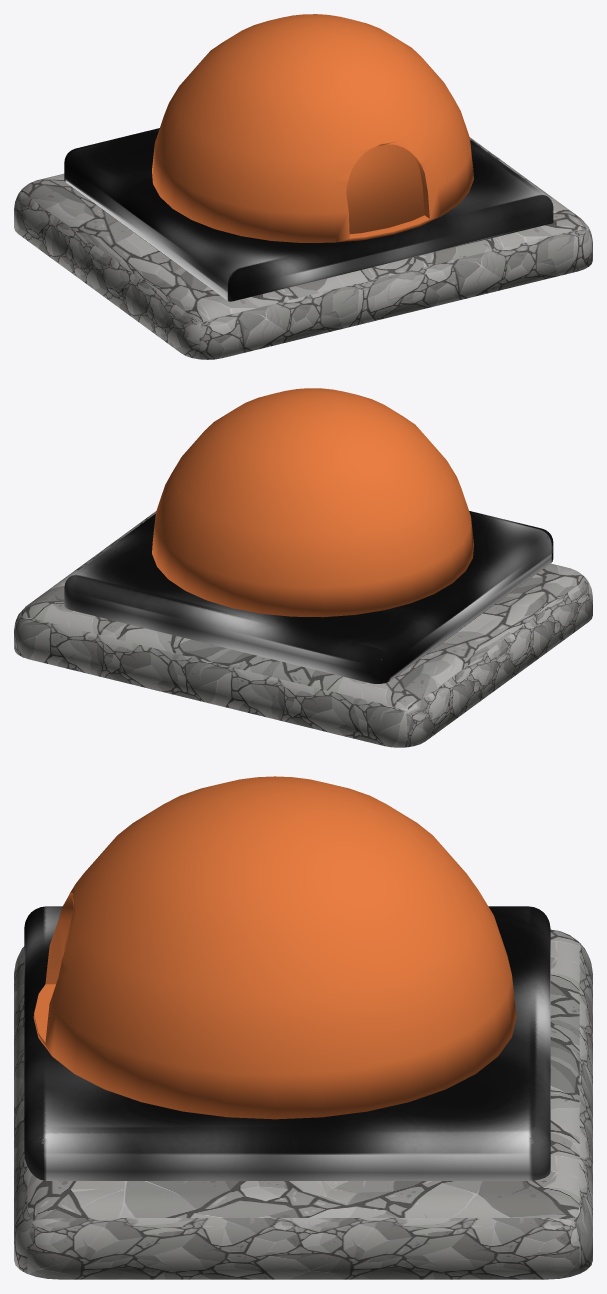
The model's file is forno.fbx.
The picture shows the model from 3 angles, top to bottom: view 1: azimuth 30°, elevation 25°; view 2: azimuth 150°, elevation 25°; view 3: azimuth 270°, elevation 25°; orthographic projection. The views are drawn at different scales.
Visible parts, largest first — view 1: forno; view 2: forno; view 3: forno.
Part boxes in pixels (x1=…): forno: x1=14, y1=14, x2=592, y2=359; forno: x1=14, y1=388, x2=592, y2=747; forno: x1=14, y1=776, x2=592, y2=1279.
Size of the model in its own units: 2.91 by 1.52 by 2.4.
